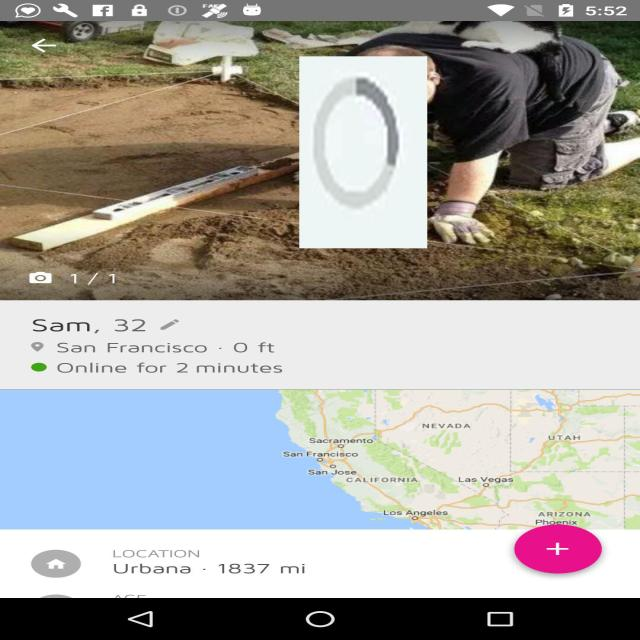misdirection: (300, 56, 428, 248)
